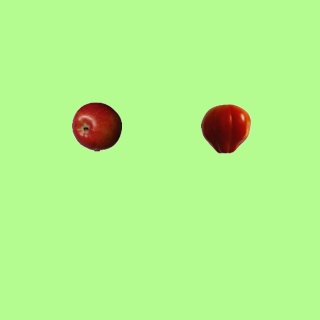Apple Braeburn: (71, 101, 121, 151)
Tomato 1: (200, 103, 250, 153)
